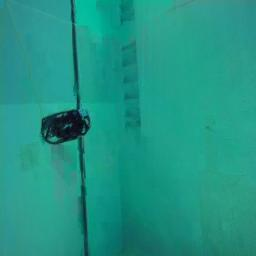Side: (40, 108, 92, 144)
